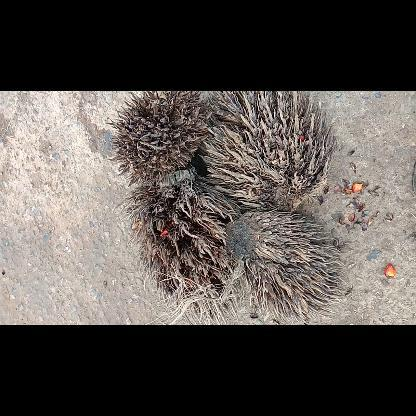Janjang kosong: (121, 168, 244, 324), (202, 90, 330, 208), (225, 210, 343, 324), (108, 90, 210, 186)
